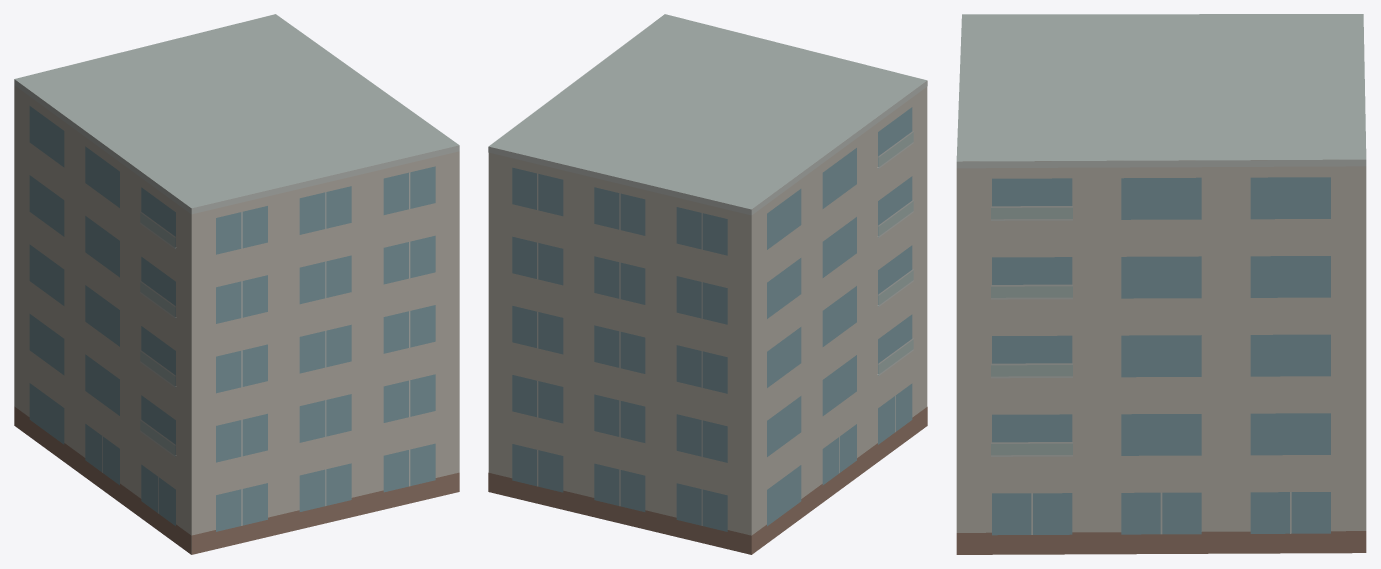
Rendered from survey-upis-32753889.glb.
The picture shows the model from 3 angles, left to right: view 1: azimuth 30°, elevation 25°; view 2: azimuth 150°, elevation 25°; view 3: azimuth 270°, elevation 25°; orthographic projection. The views are drawn at different scales.
Parts seen in each view (by area): view 1: survey-upis-32753889.tmp; view 2: survey-upis-32753889.tmp; view 3: survey-upis-32753889.tmp.
Part boxes in pixels (<box>): survey-upis-32753889.tmp: <box>14,14,459,554</box>; survey-upis-32753889.tmp: <box>488,14,927,554</box>; survey-upis-32753889.tmp: <box>956,14,1366,554</box>.
Size of the model in its own units: 11.39 by 14.1 by 13.32.
